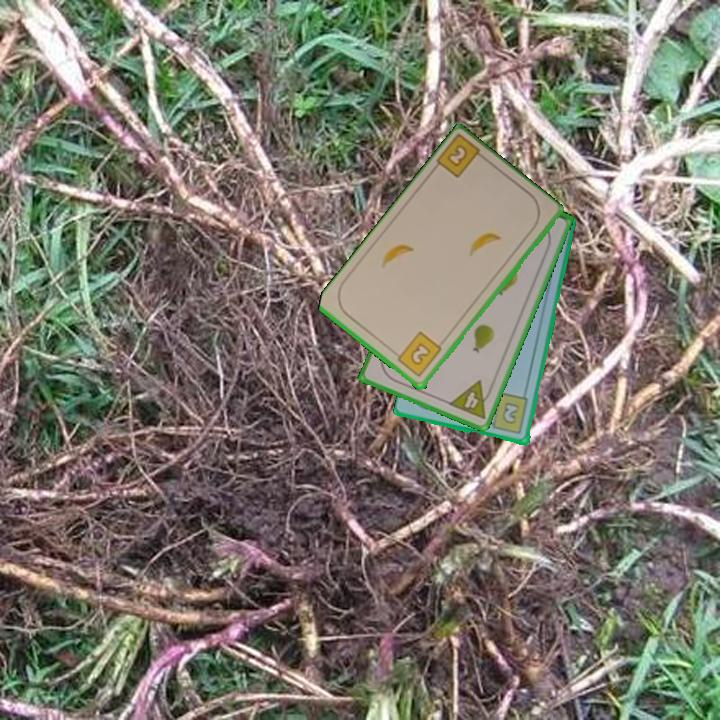2b: (390, 328, 445, 380), (433, 133, 491, 181), (483, 390, 531, 437)
4p: (445, 377, 496, 422)
